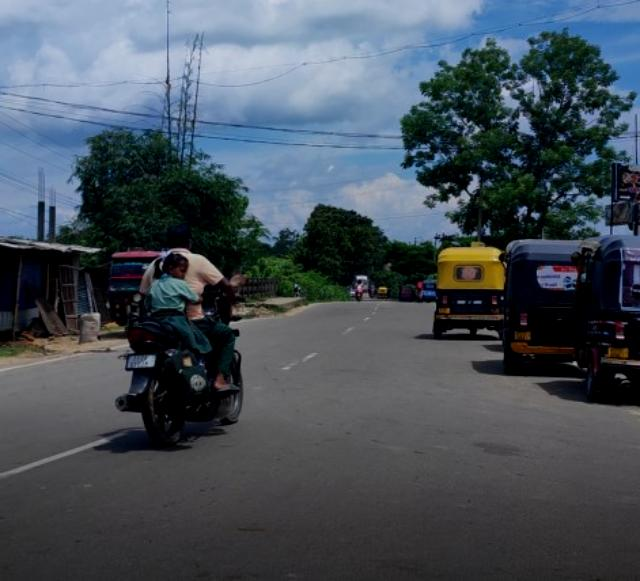licensePlate: (122, 351, 156, 374)
motorcycle: (113, 220, 246, 453)
withoutHelmet: (166, 223, 194, 254), (158, 255, 188, 281)
